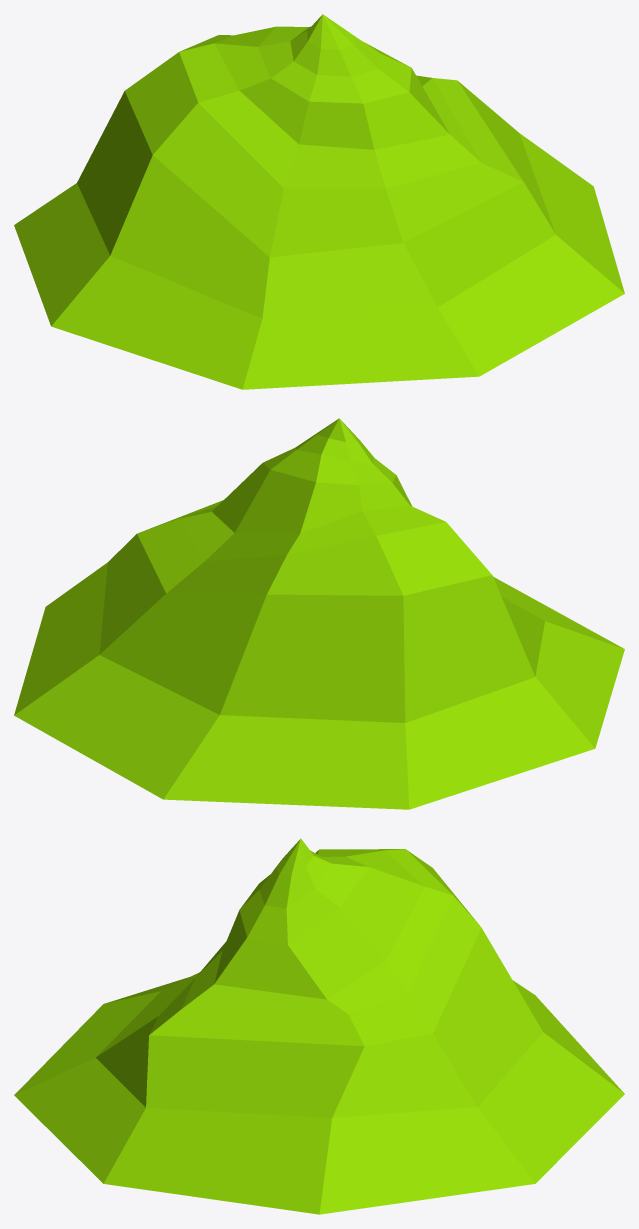
Rendered from Mountain2_A.fbx.
3 views of the same model, one above another, from view 1: azimuth 30°, elevation 25°; view 2: azimuth 150°, elevation 25°; view 3: azimuth 270°, elevation 25° (orthographic). The views are drawn at different scales.
Visible parts, largest first — view 1: Cylinder.002; view 2: Cylinder.002; view 3: Cylinder.002.
Part boxes in pixels (x1,y1,x2,y2): Cylinder.002: (14,14,624,389); Cylinder.002: (14,418,624,809); Cylinder.002: (14,838,624,1214).
Size of the model in its own units: 10241 by 4646 by 10205.
